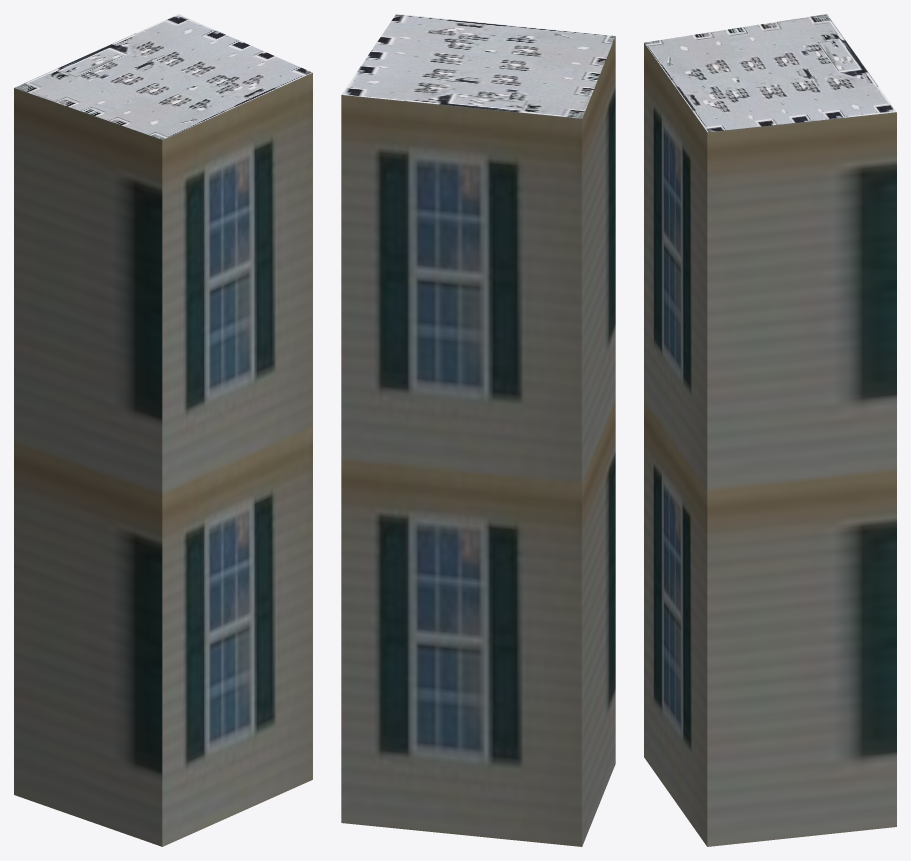
File: ResTex__4223.fbx
3 views of the same model, side by side, from view 1: azimuth 30°, elevation 25°; view 2: azimuth 150°, elevation 25°; view 3: azimuth 270°, elevation 25° (orthographic). The views are drawn at different scales.
Parts seen in each view (by area): view 1: CityEngineMaterial_7_m, CityEngineMaterial_15_m; view 2: CityEngineMaterial_7_m, CityEngineMaterial_15_m; view 3: CityEngineMaterial_7_m, CityEngineMaterial_15_m.
Part boxes in pixels (<box>): CityEngineMaterial_7_m: <box>14,73,312,846</box>; CityEngineMaterial_15_m: <box>14,14,312,139</box>; CityEngineMaterial_7_m: <box>341,36,615,846</box>; CityEngineMaterial_15_m: <box>341,14,615,118</box>; CityEngineMaterial_7_m: <box>644,43,896,846</box>; CityEngineMaterial_15_m: <box>644,14,896,132</box>.
Bounding box in the file's own units: 2.13 × 6 × 1.92.
Materials: 2 (2 with a texture image).
